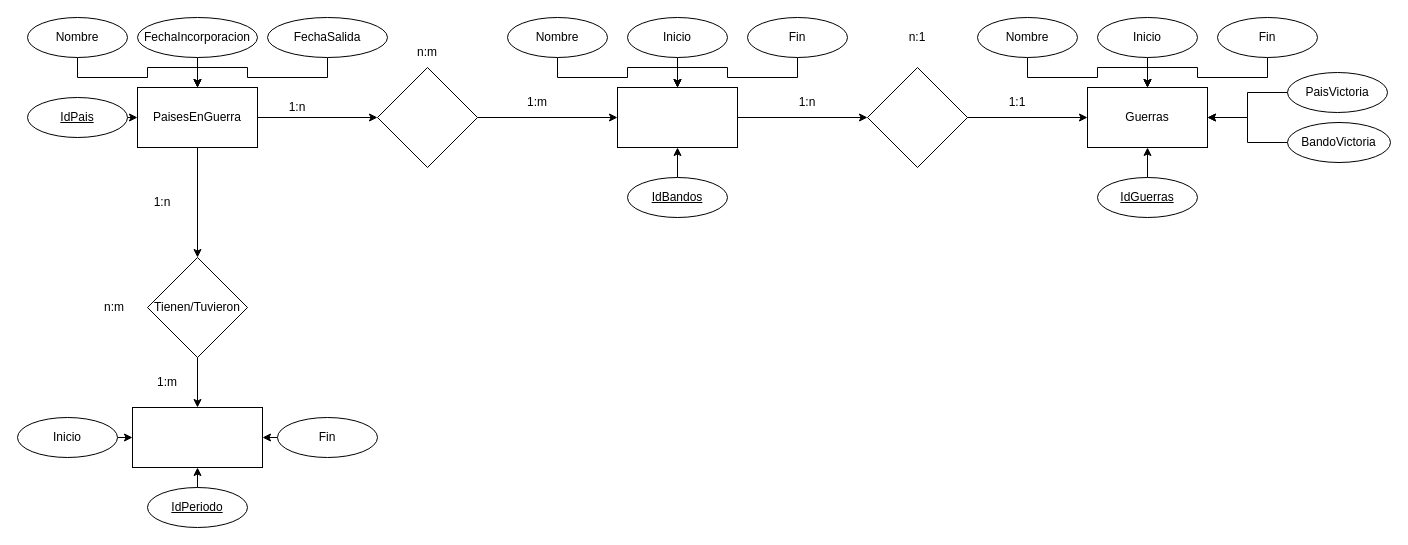
Image size: 1408x545. Some labels were removed from this diagram. Each missing label, with the centre of its shape:
Bandos: the point at 677,117
Luchan: the point at 917,117
PeriodosIndependencia: the point at 197,437
Pertenecen: the point at 427,117
